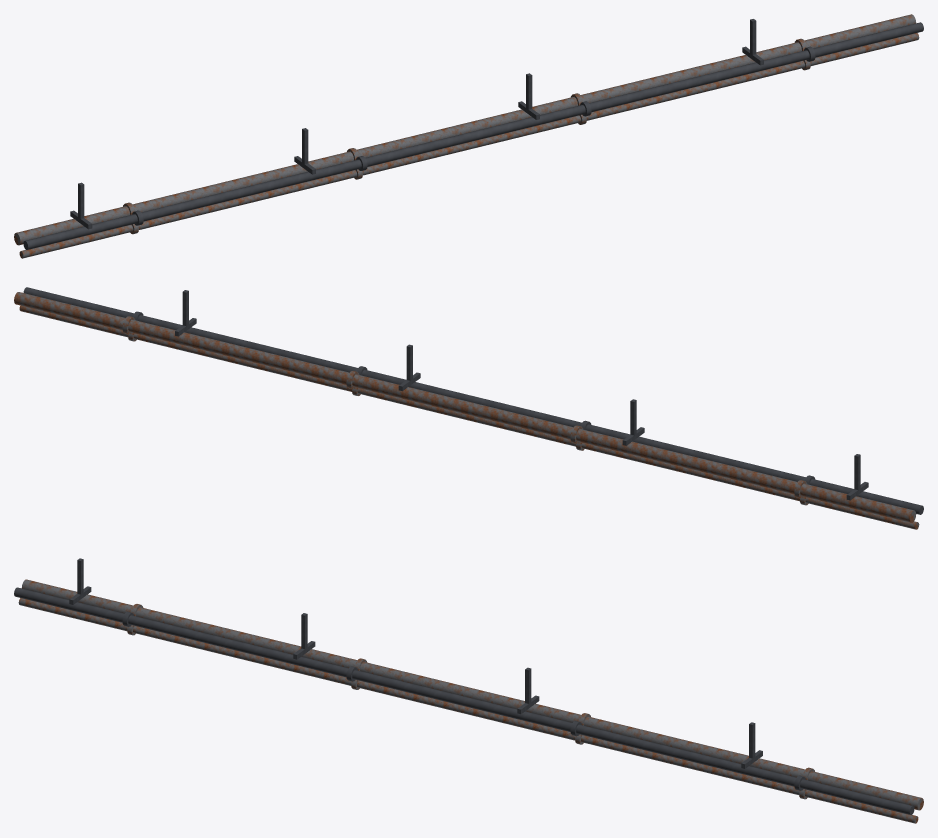
File: pipe_run.obj
The picture shows the model from 3 angles, top to bottom: view 1: azimuth 30°, elevation 25°; view 2: azimuth 150°, elevation 25°; view 3: azimuth 330°, elevation 25°; orthographic projection.
Visible parts, largest first — view 1: pipe_run; view 2: pipe_run; view 3: pipe_run.
Part boxes in pixels (x1,y1,x2,y2): pipe_run: (14, 14, 923, 258); pipe_run: (14, 287, 923, 529); pipe_run: (14, 558, 923, 823).
Size of the model in its own units: 12 by 0.795 by 0.42.
